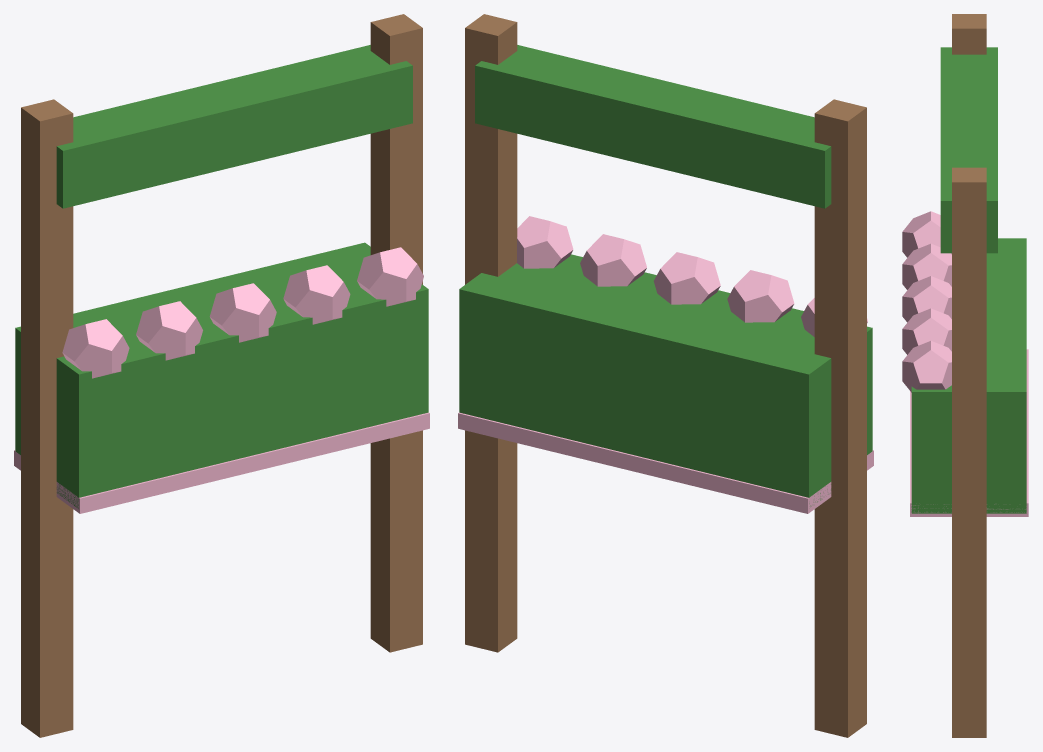
Rendered from slide-beam.glb.
The picture shows the model from 3 angles, left to right: view 1: azimuth 30°, elevation 25°; view 2: azimuth 150°, elevation 25°; view 3: azimuth 270°, elevation 25°; orthographic projection. The views are drawn at different scales.
Parts seen in each view (by area): view 1: gardens slide-beam; view 2: gardens slide-beam; view 3: gardens slide-beam.
Boxes of the visible parts, bbox=[...] form: gardens slide-beam: bbox=[14, 14, 429, 737]; gardens slide-beam: bbox=[458, 14, 873, 737]; gardens slide-beam: bbox=[902, 14, 1028, 737].
Bounding box in the file's own units: 2.08 × 3.2 × 0.6595.
